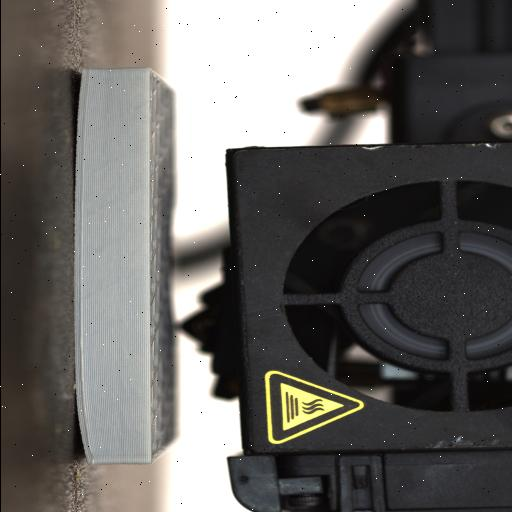warp: (71, 424, 103, 470), (69, 60, 93, 104)
